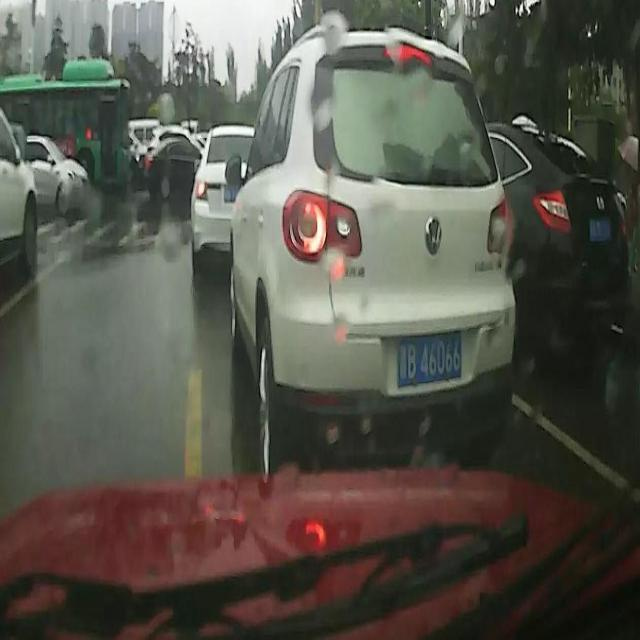car: (225, 23, 508, 470), (454, 111, 626, 359), (190, 123, 267, 275), (0, 105, 40, 276), (8, 134, 91, 214), (145, 133, 206, 200)
